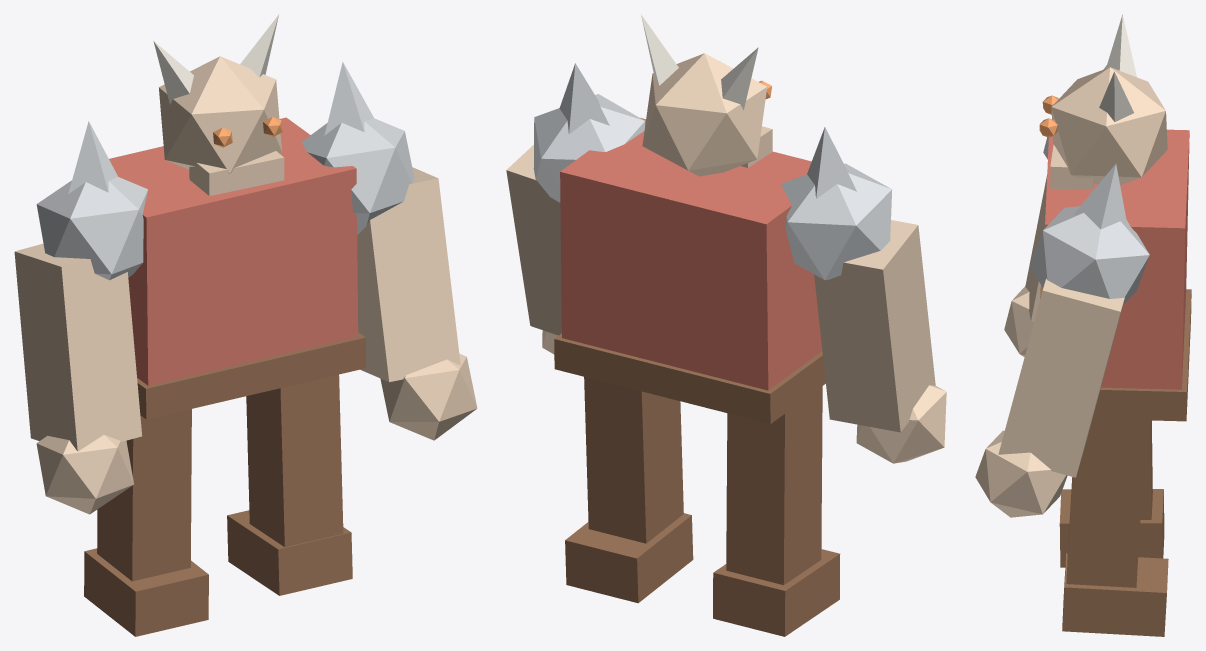
The model's file is npcpose_brute_idle_08.glb.
3 renders of one model, left to right at view 1: azimuth 30°, elevation 25°; view 2: azimuth 150°, elevation 25°; view 3: azimuth 270°, elevation 25°, orthographic. The views are drawn at different scales.
Visible parts, largest first — view 1: npcpose; view 2: npcpose; view 3: npcpose.
Part boxes in pixels (x1=…): npcpose: x1=14, y1=14, x2=477, y2=636; npcpose: x1=506, y1=14, x2=946, y2=636; npcpose: x1=975, y1=14, x2=1191, y2=636.
Size of the model in its own units: 1.43 by 1.86 by 0.6736.
